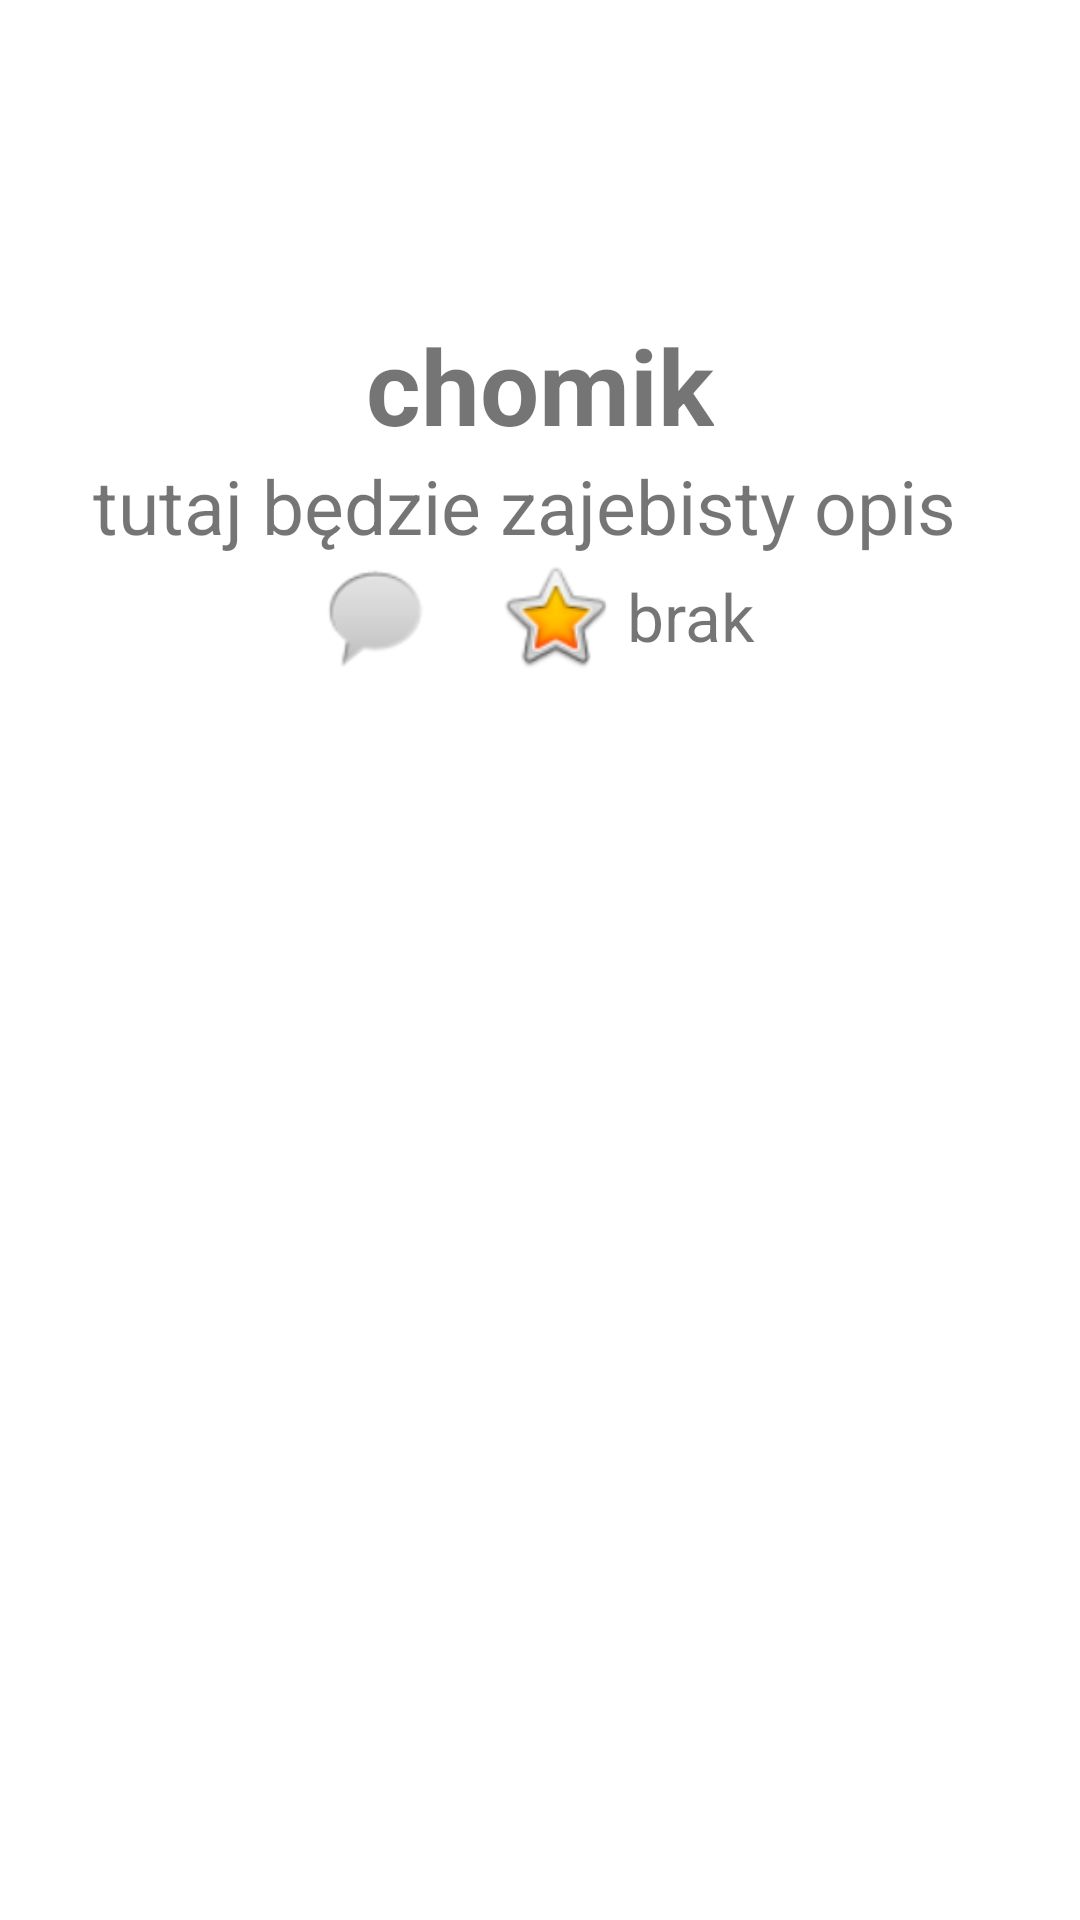

Named icons in this screenshot (1080x1920) and their bounding boxes, (x1, y1, x2, y2):
sym action chat: (329, 571, 420, 665)
